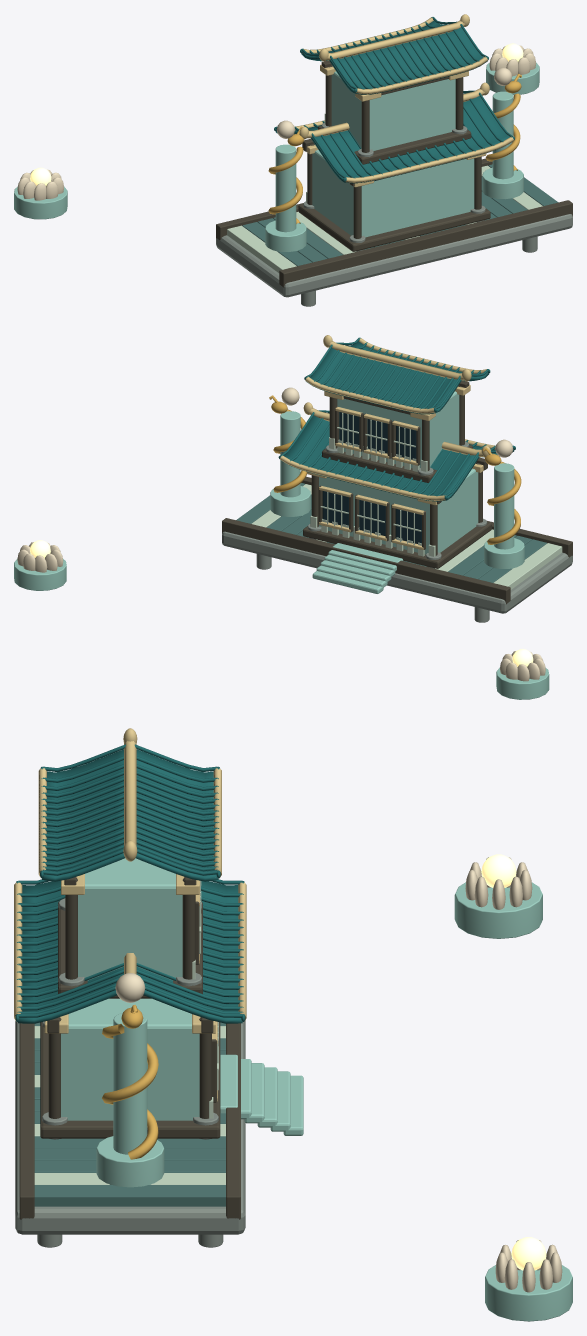
The model's file is dragon.glb.
The picture shows the model from 3 angles, top to bottom: view 1: azimuth 30°, elevation 25°; view 2: azimuth 150°, elevation 25°; view 3: azimuth 270°, elevation 25°; orthographic projection. The views are drawn at different scales.
Visible parts, largest first — view 1: Jade sea palace wall, Jade sea palace wall.001, Foundation stone, Jade sea palace1 roof shell, Mortised deck edge, Jade sea palace0 roof shell, Jade sea palace raised sill, Jade column, Jade sea palace raised sill.001, Jade column.001, Pearl basin base, Individual deck plank (+19 smaller); view 2: Foundation stone, Jade sea palace1 roof shell, Jade sea palace wall, Jade sea palace0 roof shell, Mortised deck edge.001, Jade sea palace wall.001, Jade sea palace raised sill, Jade column, Jade column.001, Pearl basin base, Individual deck plank, Pearl basin base.001 (+23 smaller); view 3: Jade sea palace wall, Jade sea palace wall.001, Foundation stone, Jade sea palace1 roof shell, Jade sea palace0 roof shell, Individual deck plank.017, Jade column.001, Jade sea palace raised sill, Pearl basin base, Pearl basin base.001, Mortised deck edge, Dragon pillar plinth.001 (+43 smaller).
Part boxes in pixels (x1=…): Jade sea palace wall: x1=312, y1=150, x2=474, y2=237; Jade sea palace wall.001: x1=331, y1=71, x2=455, y2=150; Foundation stone: x1=216, y1=214, x2=572, y2=297; Jade sea palace1 roof shell: x1=301, y1=21, x2=487, y2=94; Mortised deck edge: x1=279, y1=200, x2=572, y2=287; Jade sea palace0 roof shell: x1=275, y1=93, x2=511, y2=183; Jade sea palace raised sill: x1=298, y1=204, x2=490, y2=251; Jade column: x1=275, y1=144, x2=296, y2=232; Jade sea palace raised sill.001: x1=318, y1=126, x2=471, y2=164; Jade column.001: x1=492, y1=91, x2=513, y2=179; Pearl basin base: x1=14, y1=186, x2=67, y2=219; Individual deck plank: x1=227, y1=225, x2=296, y2=272; Foundation stone: x1=222, y1=531, x2=572, y2=613; Jade sea palace1 roof shell: x1=306, y1=341, x2=488, y2=414; Jade sea palace wall: x1=319, y1=468, x2=478, y2=554; Jade sea palace0 roof shell: x1=281, y1=413, x2=514, y2=501; Mortised deck edge.001: x1=222, y1=518, x2=510, y2=604; Jade sea palace wall.001: x1=337, y1=391, x2=459, y2=468; Jade sea palace raised sill: x1=303, y1=522, x2=491, y2=568; Jade column: x1=494, y1=463, x2=514, y2=549; Jade column.001: x1=280, y1=411, x2=300, y2=497; Pearl basin base: x1=496, y1=667, x2=549, y2=699; Individual deck plank: x1=493, y1=543, x2=562, y2=589; Pearl basin base.001: x1=14, y1=558, x2=66, y2=590; Jade sea palace wall: x1=61, y1=998, x2=199, y2=1120; Jade sea palace wall.001: x1=78, y1=858, x2=182, y2=980; Foundation stone: x1=15, y1=1020, x2=245, y2=1234; Jade sea palace1 roof shell: x1=42, y1=749, x2=218, y2=881; Jade sea palace0 roof shell: x1=18, y1=880, x2=242, y2=1023; Individual deck plank.017: x1=34, y1=1185, x2=225, y2=1206; Jade column.001: x1=113, y1=1013, x2=147, y2=1154; Jade sea palace raised sill: x1=40, y1=1022, x2=220, y2=1138; Pearl basin base: x1=454, y1=882, x2=542, y2=938; Pearl basin base.001: x1=485, y1=1265, x2=572, y2=1321; Mortised deck edge: x1=19, y1=1023, x2=34, y2=1219; Dragon pillar plinth.001: x1=96, y1=1136, x2=164, y2=1187.
Bounding box in the file's own units: 4.96 × 2.04 × 2.79.
